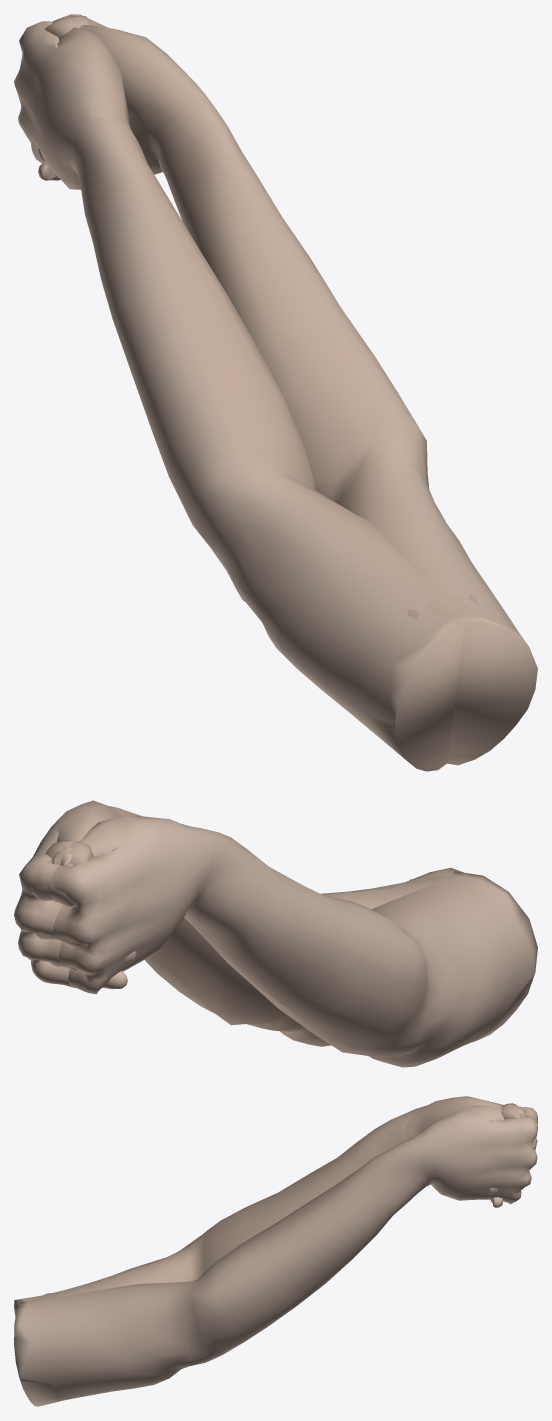
File: hands_grip.glb
3 views of the same model, one above another, from view 1: azimuth 30°, elevation 25°; view 2: azimuth 150°, elevation 25°; view 3: azimuth 270°, elevation 25° (orthographic). The views are drawn at different scales.
Visible parts, largest first — view 1: GripL, Grip; view 2: GripL, Grip; view 3: Grip, GripL.
Boxes of the visible parts, left/top/right/bottom form: GripL: left=14, top=16, right=478, bottom=771; Grip: left=45, top=14, right=537, bottom=765; GripL: left=32, top=816, right=537, bottom=1067; Grip: left=14, top=800, right=478, bottom=1046; Grip: left=14, top=1103, right=537, bottom=1406; GripL: left=14, top=1096, right=537, bottom=1317.
Size of the model in its own units: 0.14 by 0.2843 by 0.4512.
